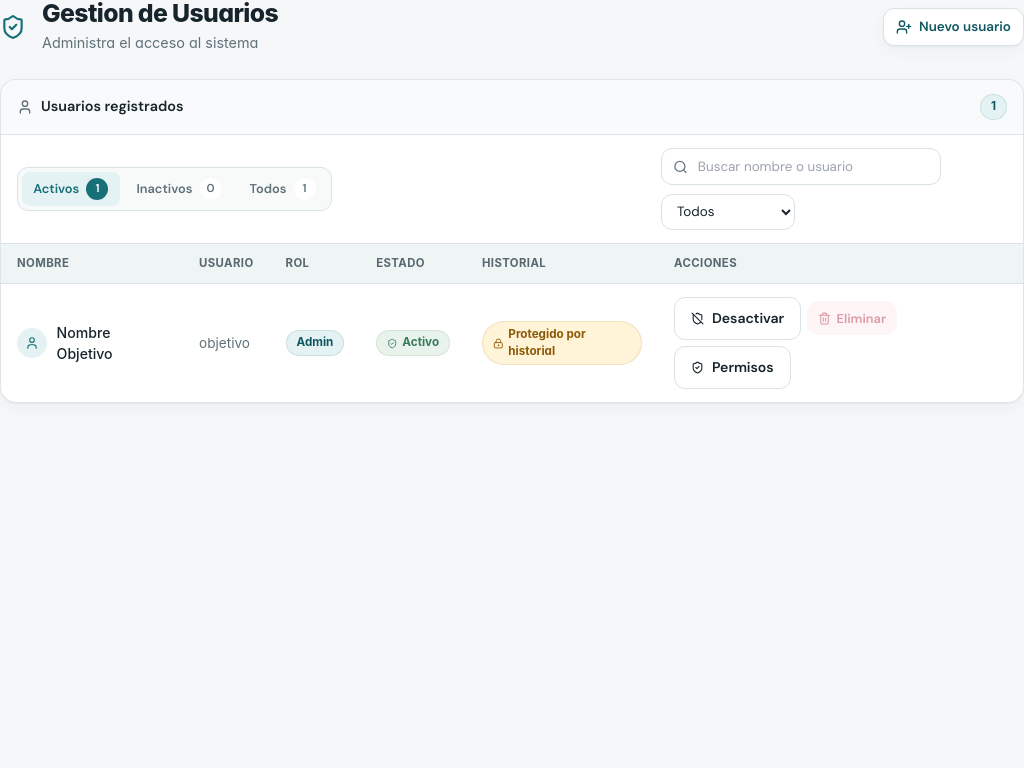
Scenario: VIH original conservado true no confirma ni al agregar reportes
Click the button titled "Gestionar permisos": (732, 368) [674,346,790,389]
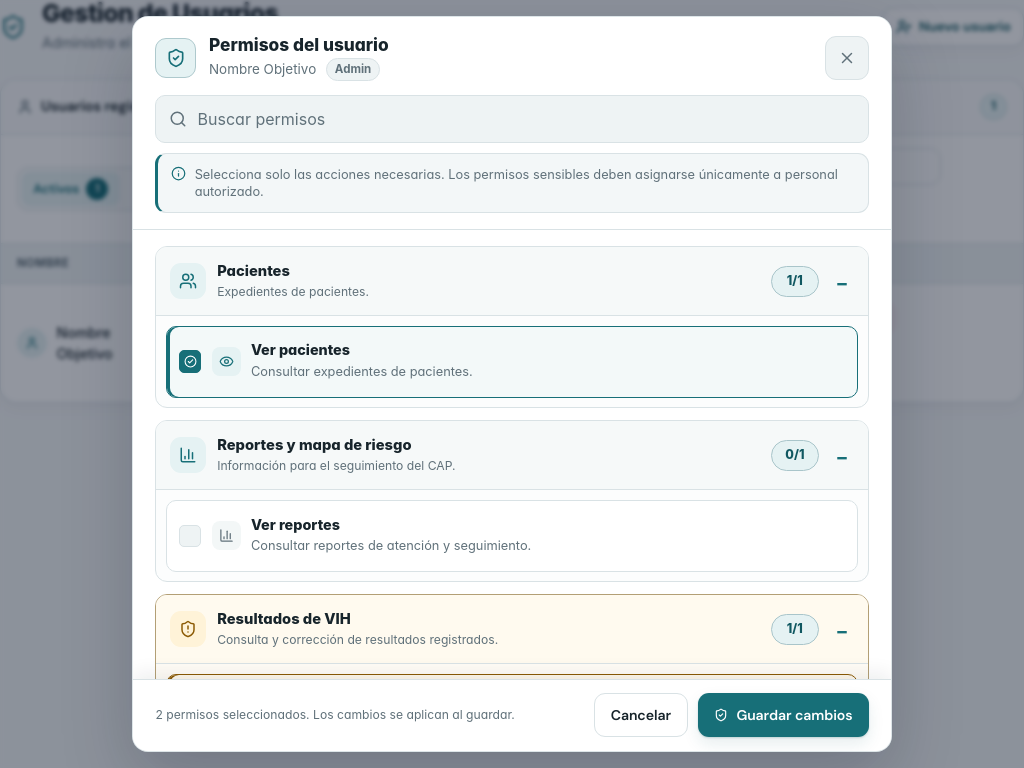
Check: the text "Ver pacientes" is shown, box [251,342,350,358]
Click the checkbox labelled "Ver reportes Consultar reportes de atención y seguimiento.": (512, 536) [166,500,858,572]
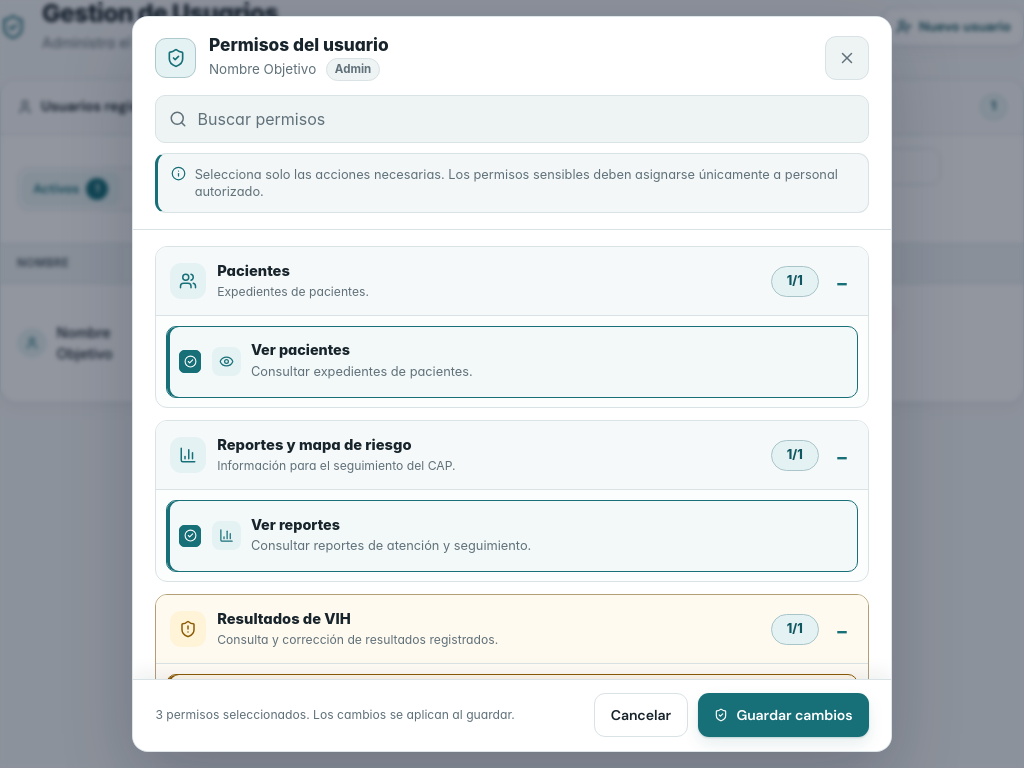
Click the button "Guardar cambios": (784, 715) [698,693,869,737]
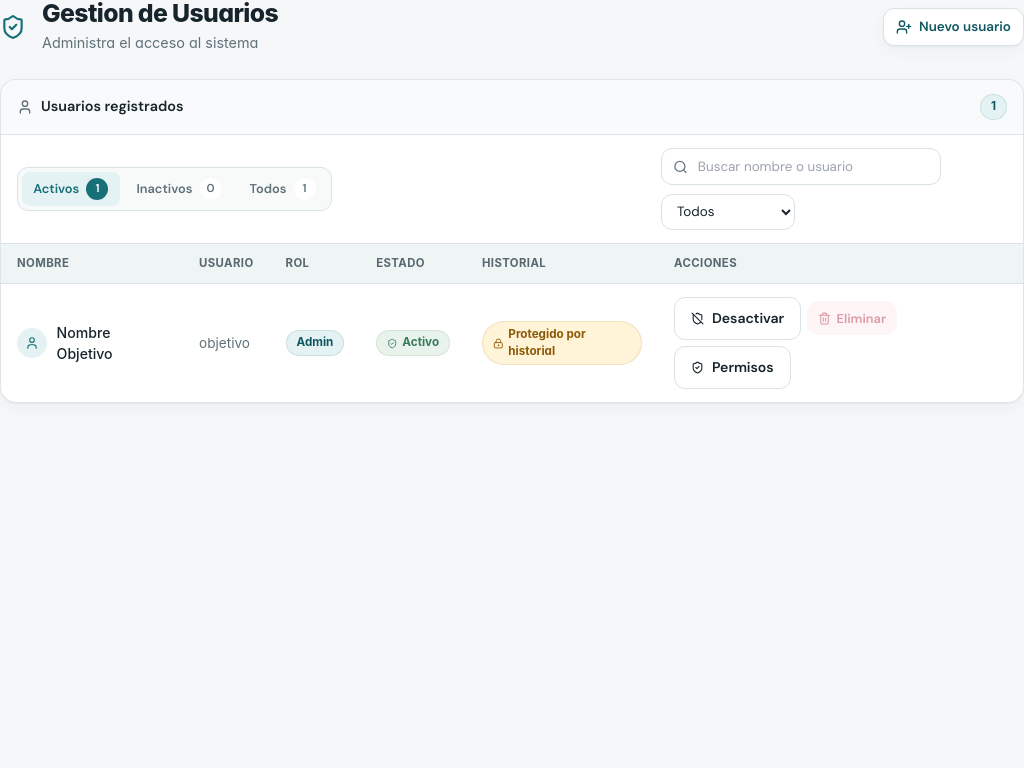
Check: the dialog is gone
